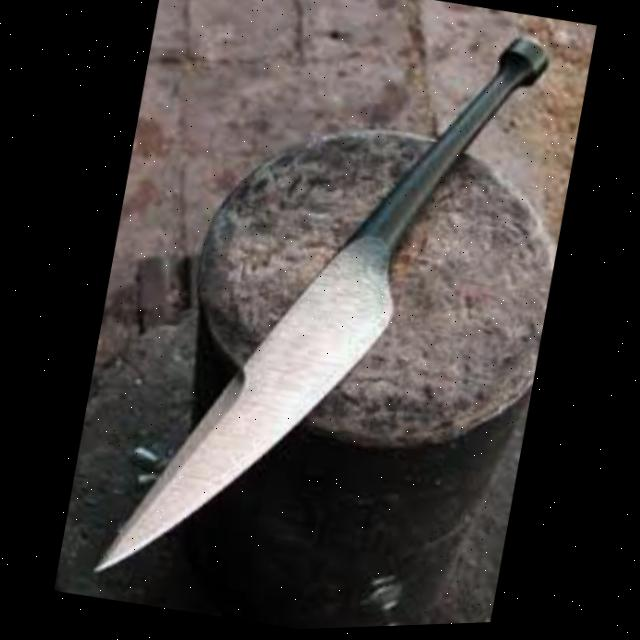Knife: (82, 0, 559, 638)
